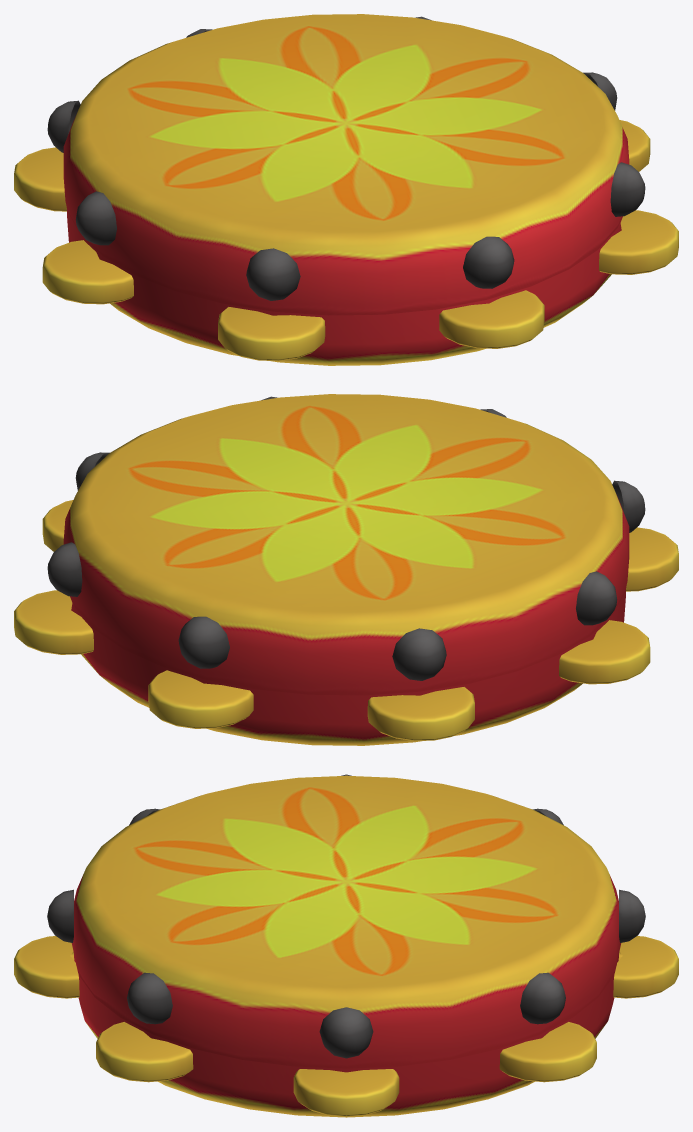
The model's file is tambourine_yellow.fbx.
3 renders of one model, top to bottom at view 1: azimuth 30°, elevation 25°; view 2: azimuth 150°, elevation 25°; view 3: azimuth 270°, elevation 25°, orthographic. The views are drawn at different scales.
Parts seen in each view (by area): view 1: tambourine_yellow; view 2: tambourine_yellow; view 3: tambourine_yellow.
Boxes of the visible parts, x1=… form: tambourine_yellow: x1=14, y1=14, x2=678, y2=365; tambourine_yellow: x1=14, y1=394, x2=678, y2=745; tambourine_yellow: x1=14, y1=774, x2=678, y2=1117.
Size of the model in its own units: 0.8384 by 0.1777 by 0.8384.
